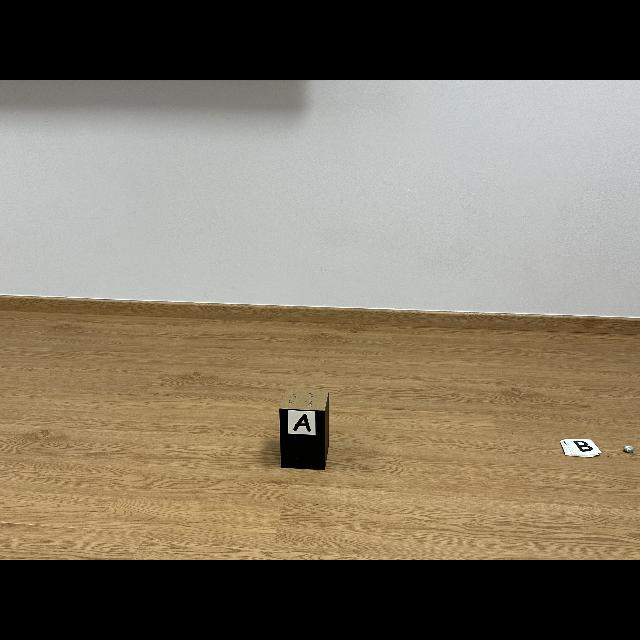A: (292, 414, 311, 431)
B: (574, 440, 592, 452)
